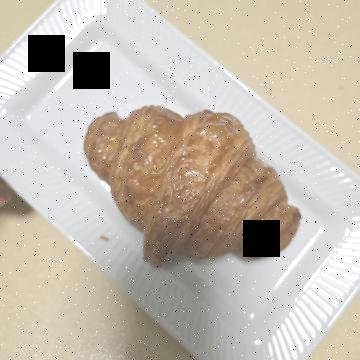croissant: (107, 50, 305, 287)
